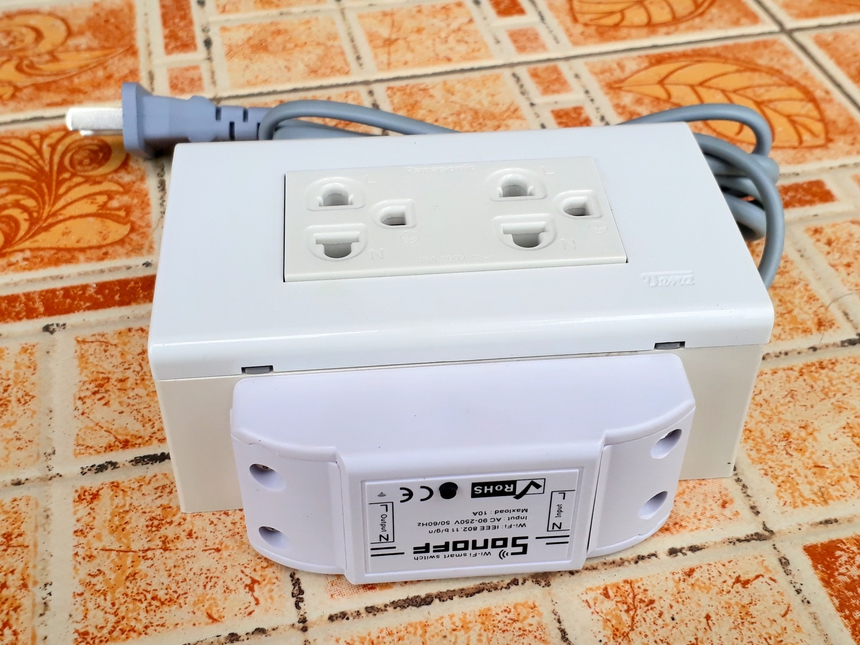Three_eye_plug: (131, 109, 773, 589)
